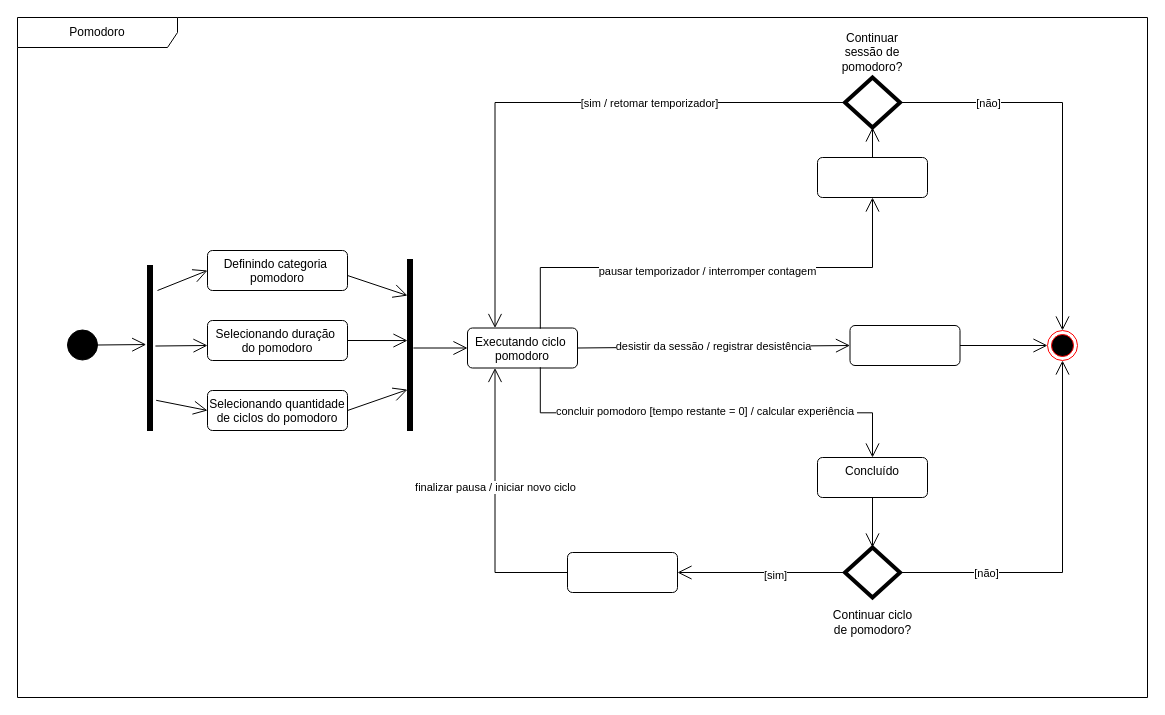
This 1165x715 diagram has some shape labels left out. Each missing label, with the box of its shape:
Cancelado: (849, 324, 960, 366)
Pausa longa: (566, 552, 678, 592)
Pausado: (816, 156, 928, 198)
